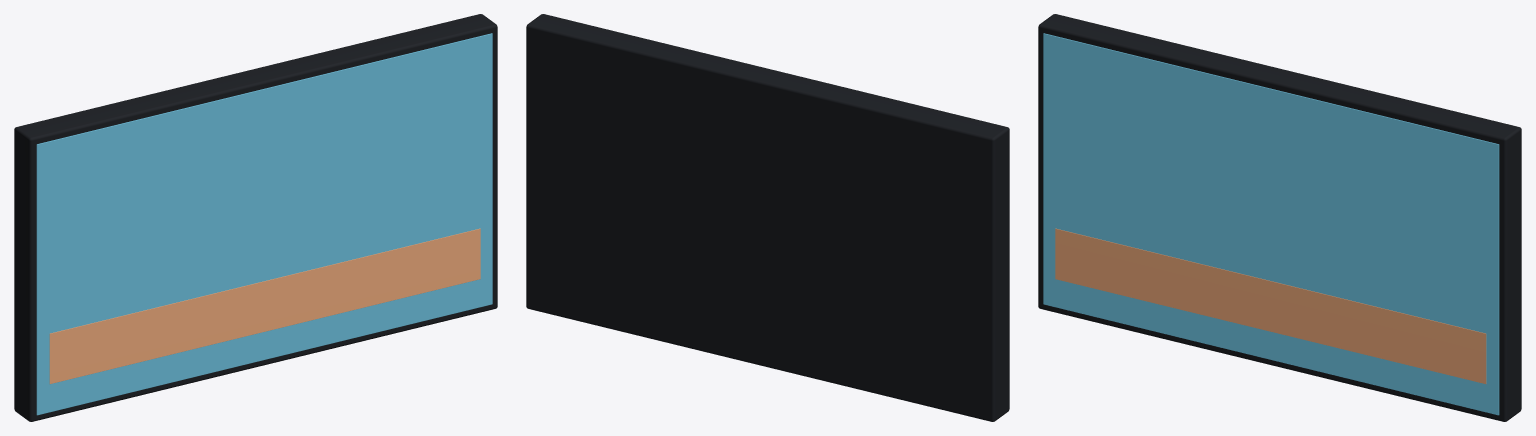
The model's file is wall-tv.glb.
3 renders of one model, left to right at view 1: azimuth 30°, elevation 25°; view 2: azimuth 150°, elevation 25°; view 3: azimuth 330°, elevation 25°, orthographic.
Parts seen in each view (by area): view 1: TV shell; view 2: TV shell; view 3: TV shell.
Boxes of the visible parts, box(x1,y1,x2,y2) form: TV shell: box(14, 14, 497, 421); TV shell: box(526, 14, 1009, 421); TV shell: box(1038, 14, 1521, 421).
Size of the model in its own units: 0.9675 by 0.5614 by 0.0635.
